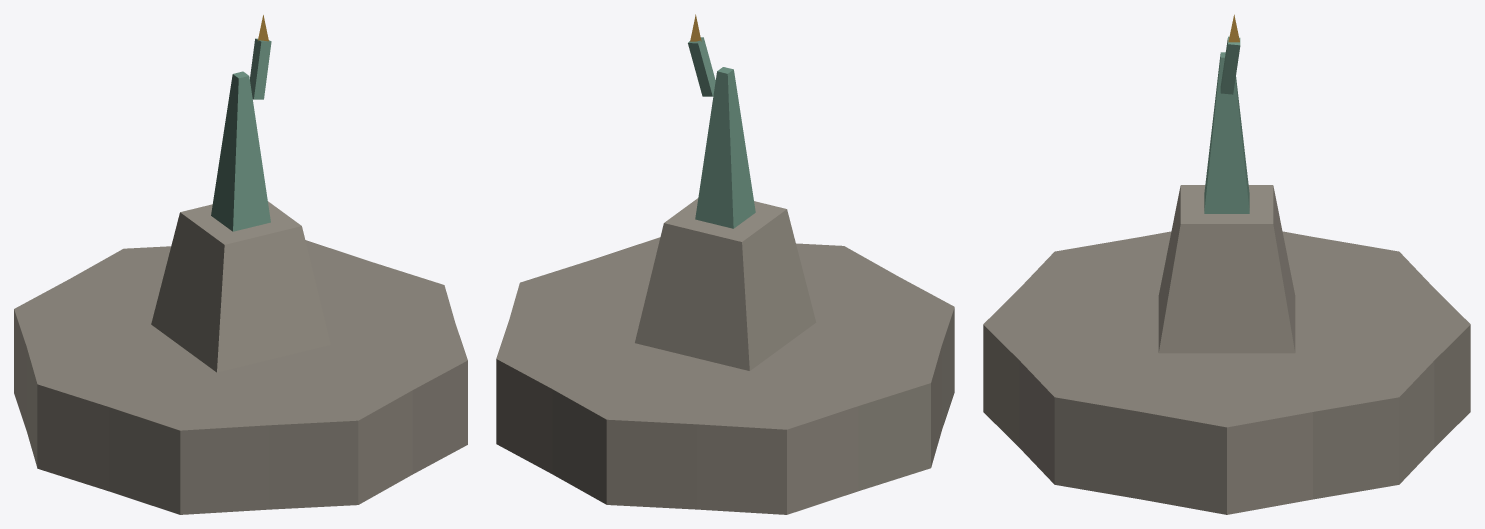
3 renders of one model, left to right at view 1: azimuth 30°, elevation 25°; view 2: azimuth 150°, elevation 25°; view 3: azimuth 270°, elevation 25°, orthographic. The views are drawn at different scales.
Visible parts, largest first — view 1: statue-of-liberty-lod3; view 2: statue-of-liberty-lod3; view 3: statue-of-liberty-lod3.
Part boxes in pixels (bbox=[...]): statue-of-liberty-lod3: bbox=[14, 15, 467, 514]; statue-of-liberty-lod3: bbox=[496, 14, 954, 514]; statue-of-liberty-lod3: bbox=[983, 14, 1470, 514].
Bounding box in the file's own units: 180 × 167 × 180.
